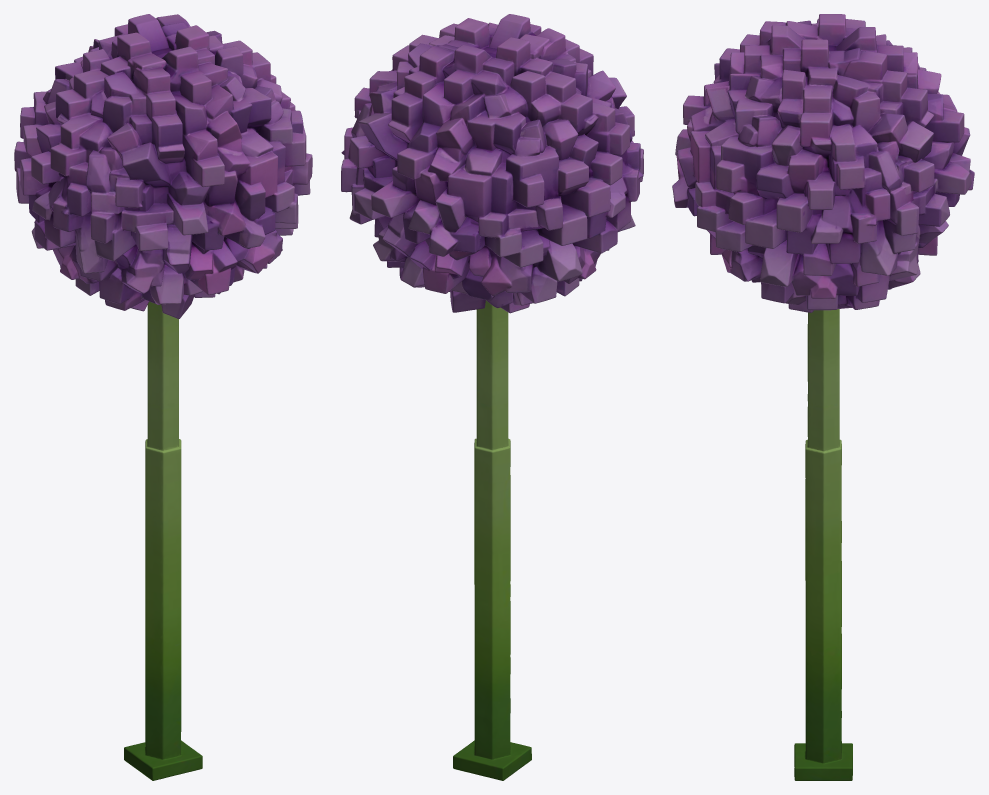
Rendered from daisy.glb.
The picture shows the model from 3 angles, left to right: view 1: azimuth 30°, elevation 25°; view 2: azimuth 150°, elevation 25°; view 3: azimuth 270°, elevation 25°; orthographic projection.
Visible parts, largest first — view 1: Mesh::generatedModels/UmeFiuDe3Nh7kiVFEyjs.gltf; view 2: Mesh::generatedModels/UmeFiuDe3Nh7kiVFEyjs.gltf; view 3: Mesh::generatedModels/UmeFiuDe3Nh7kiVFEyjs.gltf.
Part boxes in pixels (left/top/right/bottom): Mesh::generatedModels/UmeFiuDe3Nh7kiVFEyjs.gltf: left=14, top=14, right=312, bottom=780; Mesh::generatedModels/UmeFiuDe3Nh7kiVFEyjs.gltf: left=341, top=14, right=643, bottom=780; Mesh::generatedModels/UmeFiuDe3Nh7kiVFEyjs.gltf: left=672, top=14, right=974, bottom=780.
Bounding box in the file's own units: 0.3698 × 1 × 0.3713.
Materials: 1 (1 with a texture image).
